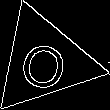O_N: (16, 32, 72, 90)
